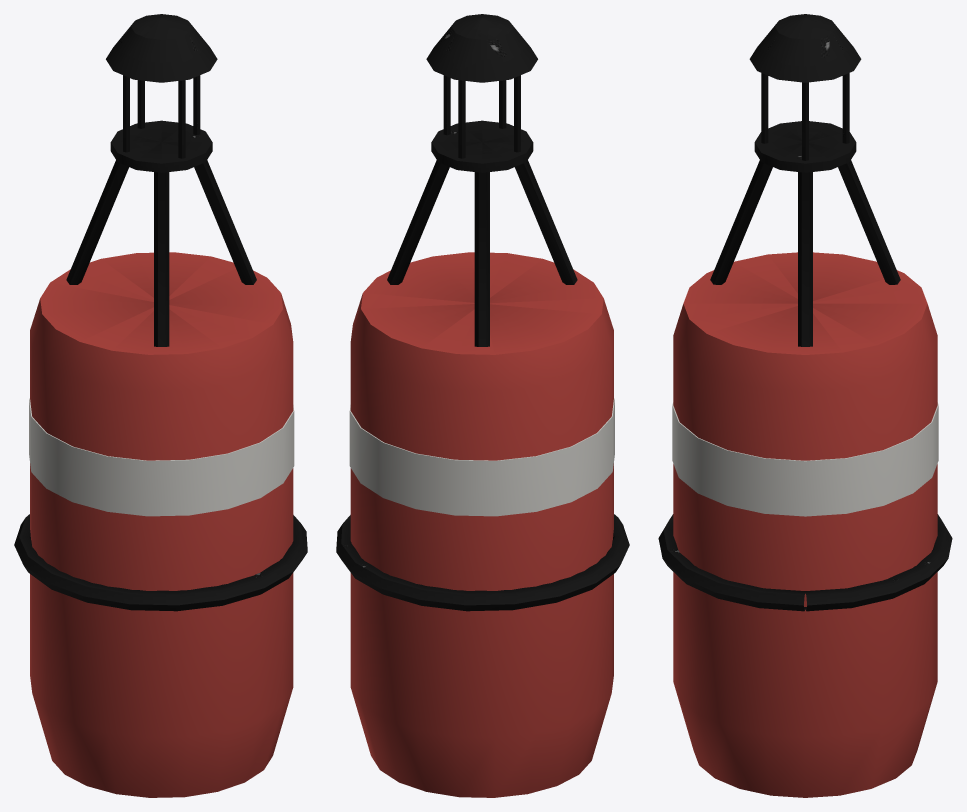
The model's file is buoy_red.glb.
3 renders of one model, left to right at view 1: azimuth 30°, elevation 25°; view 2: azimuth 150°, elevation 25°; view 3: azimuth 270°, elevation 25°, orthographic.
Parts seen in each view (by area): view 1: boat_paint_red, boat_iron, boat_paint_white; view 2: boat_paint_red, boat_iron, boat_paint_white; view 3: boat_paint_red, boat_iron, boat_paint_white.
Part boxes in pixels (<box>): boat_paint_red: <box>30,252,293,797</box>; boat_iron: <box>14,14,307,611</box>; boat_paint_white: <box>29,398,294,516</box>; boat_paint_red: <box>350,252,613,797</box>; boat_iron: <box>336,14,629,611</box>; boat_paint_white: <box>349,398,614,516</box>; boat_paint_red: <box>673,252,937,797</box>; boat_iron: <box>658,14,952,611</box>; boat_paint_white: <box>672,402,938,516</box>.
Size of the model in its own units: 0.5758 by 1.59 by 0.578.
Materials: 3 (1 with a texture image).
